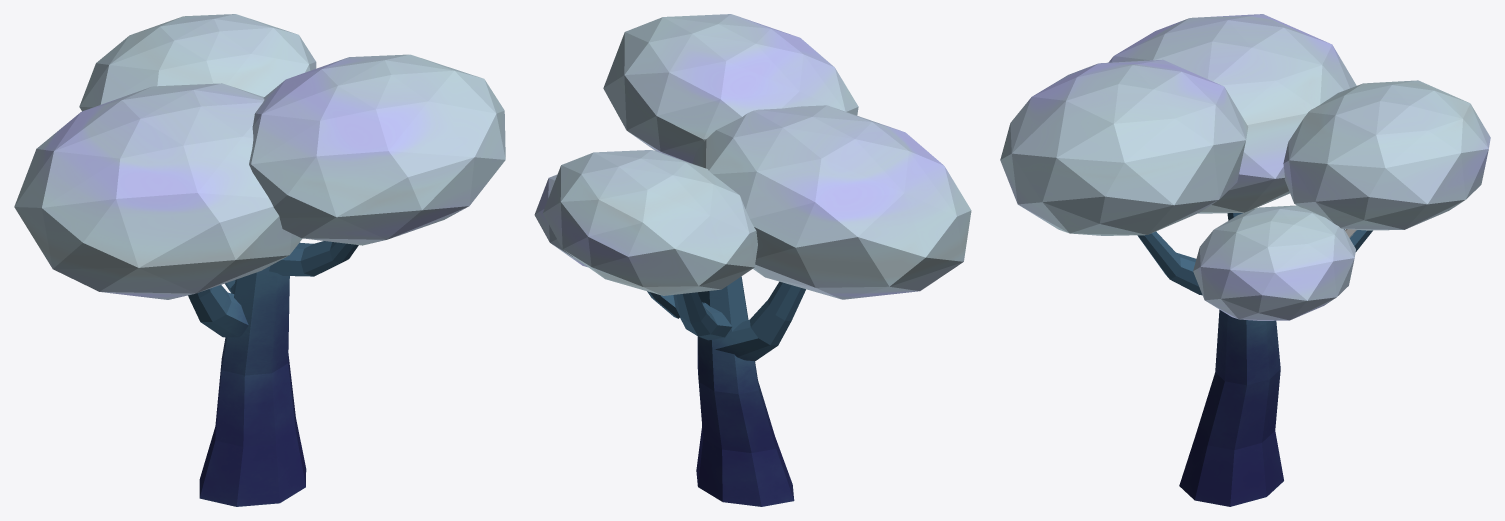
The model's file is tree.glb.
The picture shows the model from 3 angles, left to right: view 1: azimuth 30°, elevation 25°; view 2: azimuth 150°, elevation 25°; view 3: azimuth 270°, elevation 25°; orthographic projection. The views are drawn at different scales.
Parts seen in each view (by area): view 1: Cube.009; view 2: Cube.009; view 3: Cube.009.
Boxes of the visible parts, left/top/right/bottom form: Cube.009: left=14, top=14, right=505, bottom=506; Cube.009: left=534, top=14, right=971, bottom=506; Cube.009: left=1000, top=14, right=1490, bottom=506.
Bounding box in the file's own units: 1 × 1 × 1.
1 material, 1 textured.
